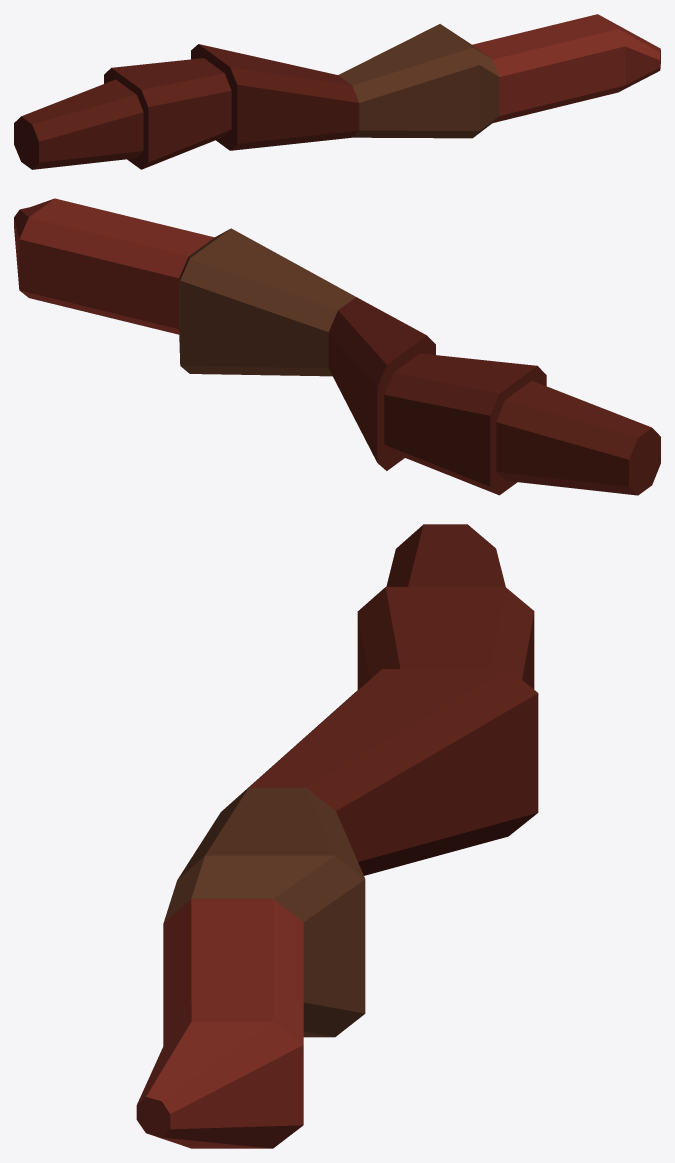
The model's file is Leg.fbx.
3 views of the same model, one above another, from view 1: azimuth 30°, elevation 25°; view 2: azimuth 150°, elevation 25°; view 3: azimuth 270°, elevation 25° (orthographic). The views are drawn at different scales.
Parts seen in each view (by area): view 1: Leg; view 2: Leg; view 3: Leg.
Boxes of the visible parts, <box> form: Leg: <box>14,14,660,169</box>; Leg: <box>14,198,660,495</box>; Leg: <box>136,524,538,1148</box>.
Bounding box in the file's own units: 149 × 484 × 74.27.
